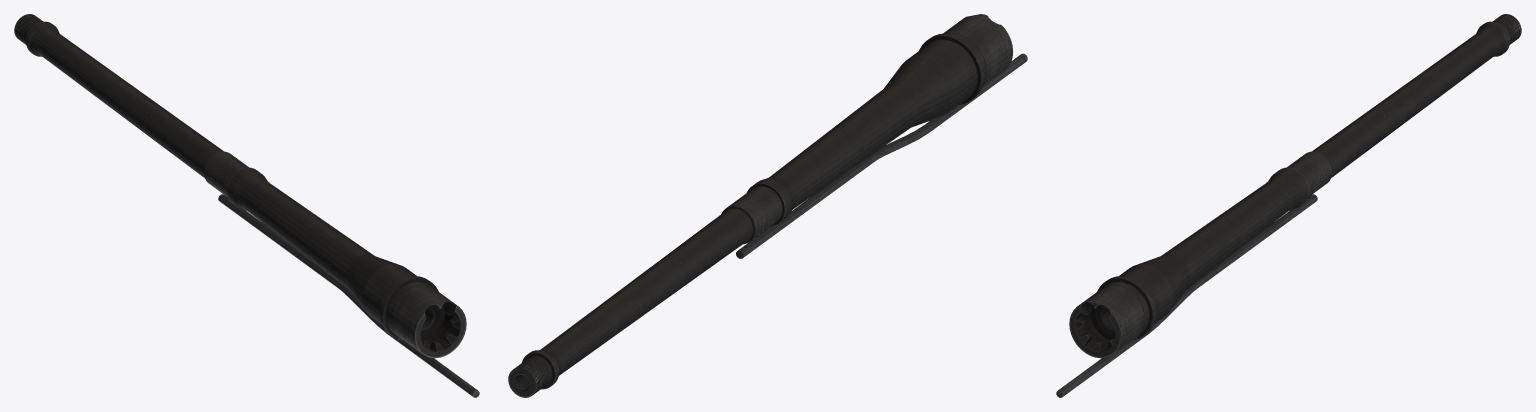
The picture shows the model from 3 angles, left to right: view 1: azimuth 30°, elevation 25°; view 2: azimuth 150°, elevation 25°; view 3: azimuth 330°, elevation 25°; orthographic projection. The views are drawn at different scales.
Visible parts, largest first — view 1: TW_6065878ac9cf8012264142fd_PZ_Import; view 2: TW_6065878ac9cf8012264142fd_PZ_Import; view 3: TW_6065878ac9cf8012264142fd_PZ_Import.
Boxes of the visible parts, x1,y1,x2,y2 form: TW_6065878ac9cf8012264142fd_PZ_Import: (14,14,479,397); TW_6065878ac9cf8012264142fd_PZ_Import: (508,14,1027,397); TW_6065878ac9cf8012264142fd_PZ_Import: (1056,14,1521,397).
Size of the model in its own units: 0.0199 by 0.2679 by 0.0236.
Materials: 1 (1 with a texture image).
